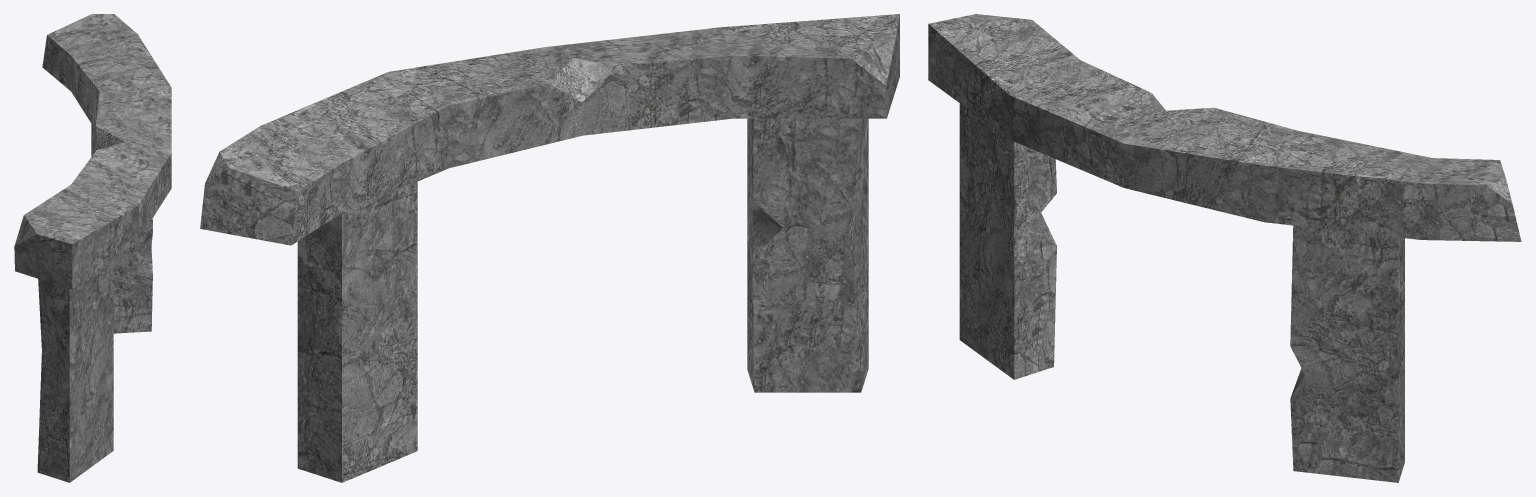
The model's file is materials_3_handrail_5.fbx.
3 renders of one model, left to right at view 1: azimuth 30°, elevation 25°; view 2: azimuth 150°, elevation 25°; view 3: azimuth 270°, elevation 25°, orthographic. The views are drawn at different scales.
Parts seen in each view (by area): view 1: materials_3_handrail_5; view 2: materials_3_handrail_5; view 3: materials_3_handrail_5.
Boxes of the visible parts, box(x1,y1,x2,y2) form: materials_3_handrail_5: box(14, 14, 171, 482); materials_3_handrail_5: box(200, 14, 899, 482); materials_3_handrail_5: box(928, 14, 1521, 482).
Bounding box in the file's own units: 182 × 150 × 259.
